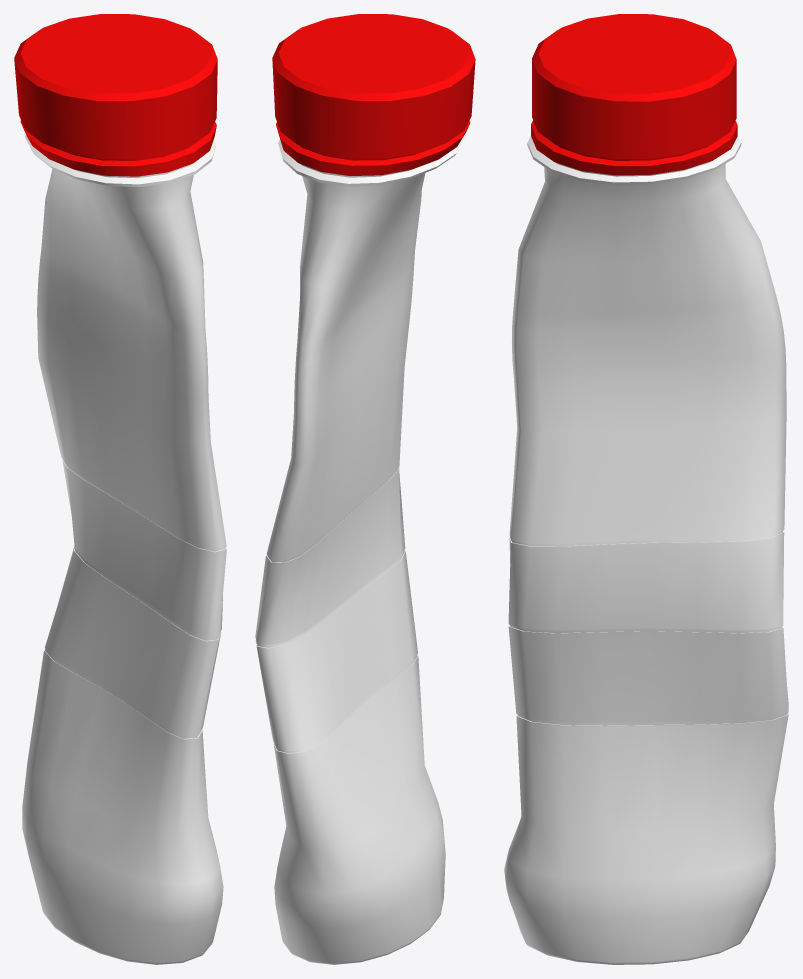
Rendered from chai6.glb.
3 renders of one model, left to right at view 1: azimuth 30°, elevation 25°; view 2: azimuth 150°, elevation 25°; view 3: azimuth 270°, elevation 25°, orthographic.
Visible parts, largest first — view 1: Cylinder003_Blue bottle_0, Cylinder003_Blue Cap_0; view 2: Cylinder003_Blue bottle_0, Cylinder003_Blue Cap_0; view 3: Cylinder003_Blue bottle_0, Cylinder003_Blue Cap_0.
Part boxes in pixels (x1=…): Cylinder003_Blue bottle_0: x1=22, y1=134, x2=226, y2=964; Cylinder003_Blue Cap_0: x1=14, y1=14, x2=217, y2=176; Cylinder003_Blue bottle_0: x1=255, y1=133, x2=466, y2=964; Cylinder003_Blue Cap_0: x1=272, y1=14, x2=475, y2=175; Cylinder003_Blue bottle_0: x1=504, y1=136, x2=788, y2=964; Cylinder003_Blue Cap_0: x1=531, y1=14, x2=737, y2=175.
Bounding box in the file's own units: 0.0132 × 0.0632 × 0.0186.
